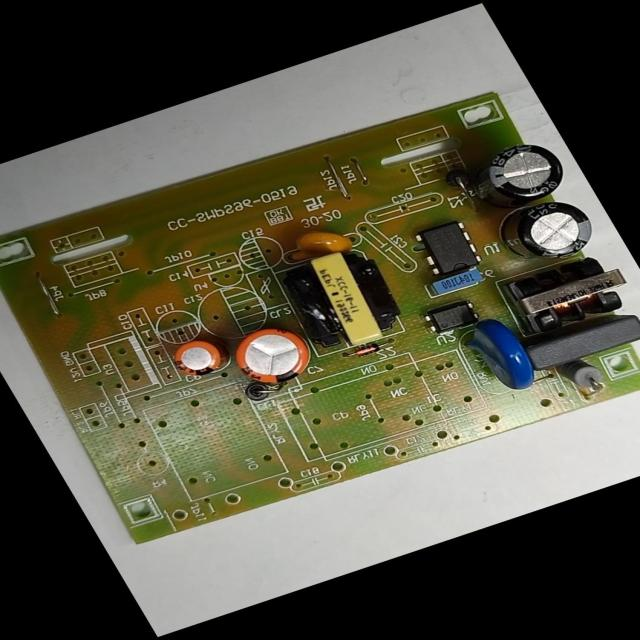Cap1: (226, 320, 320, 392)
Cap2: (162, 332, 231, 384)
Cap3: (490, 188, 606, 272)
Cap4: (460, 134, 576, 216)
MOSFET: (406, 216, 488, 281)
Mov: (451, 314, 546, 400)
Resistor: (550, 355, 607, 398)
Transformer: (272, 240, 416, 358), (502, 249, 640, 340)
